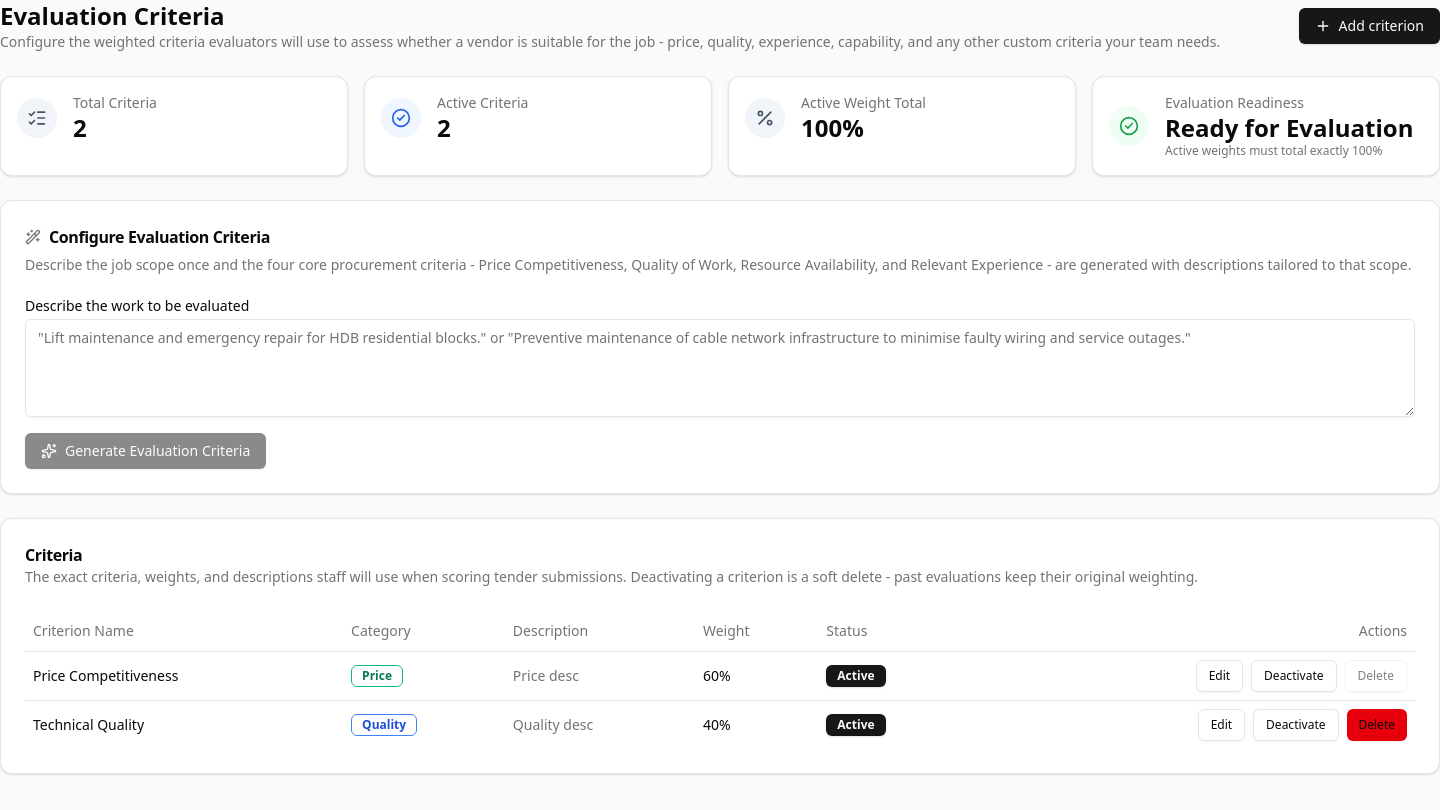
Scenario: EvaluationCriteriaPage (Jerrold - Scope B) › deactivates an active criterion after confirmation
Check: the text "Price Competitiveness" is shown, box [33,666,178,684]
Click the button "Deactivate" in the row of "Price desc".
click(1294, 676)  # box [1251,660,1336,692]
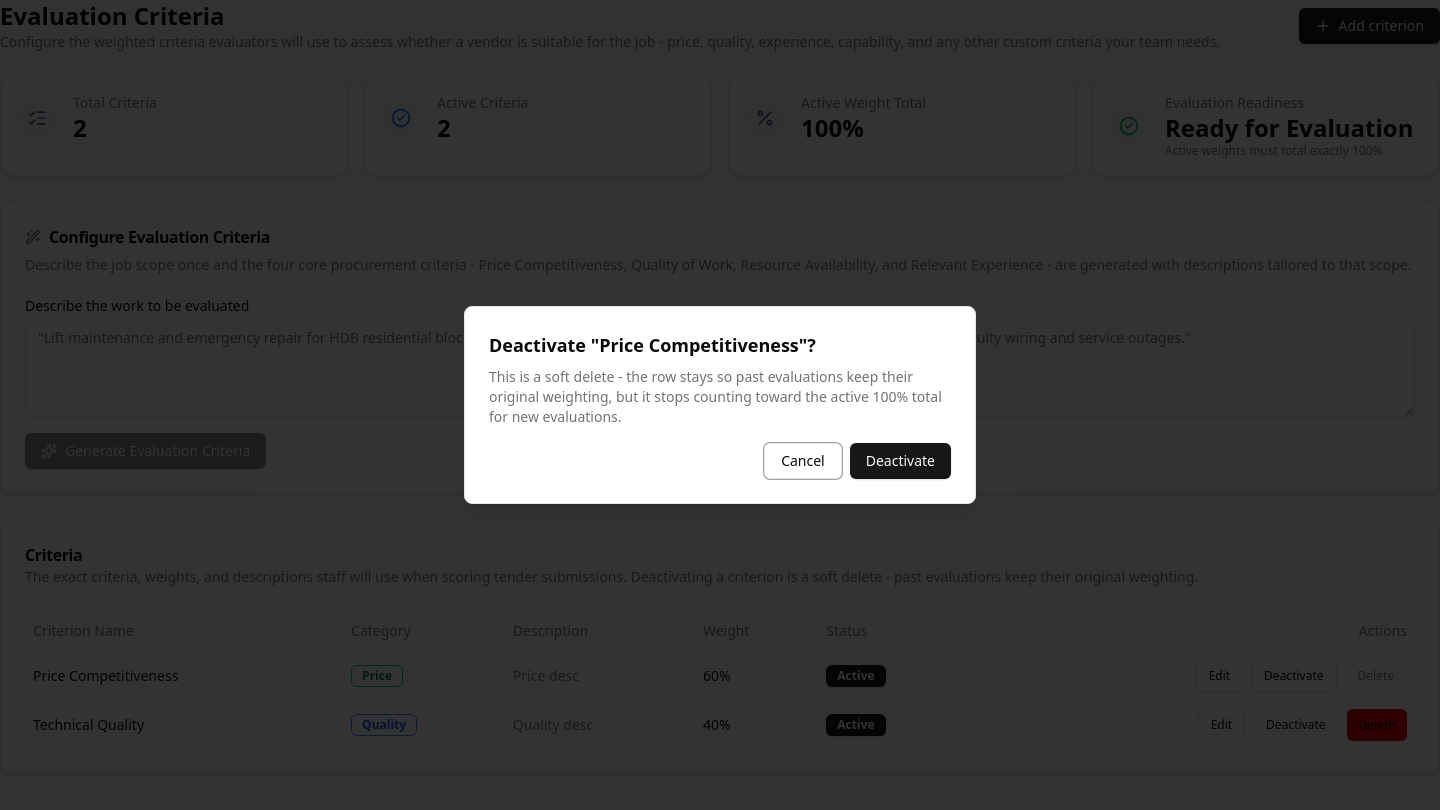
Check: the heading "Deactivate \"Price Competitiveness\"?" is shown, box [489,333,816,357]
Click the button "Deactivate".
click(900, 461)  # box [850,443,951,479]
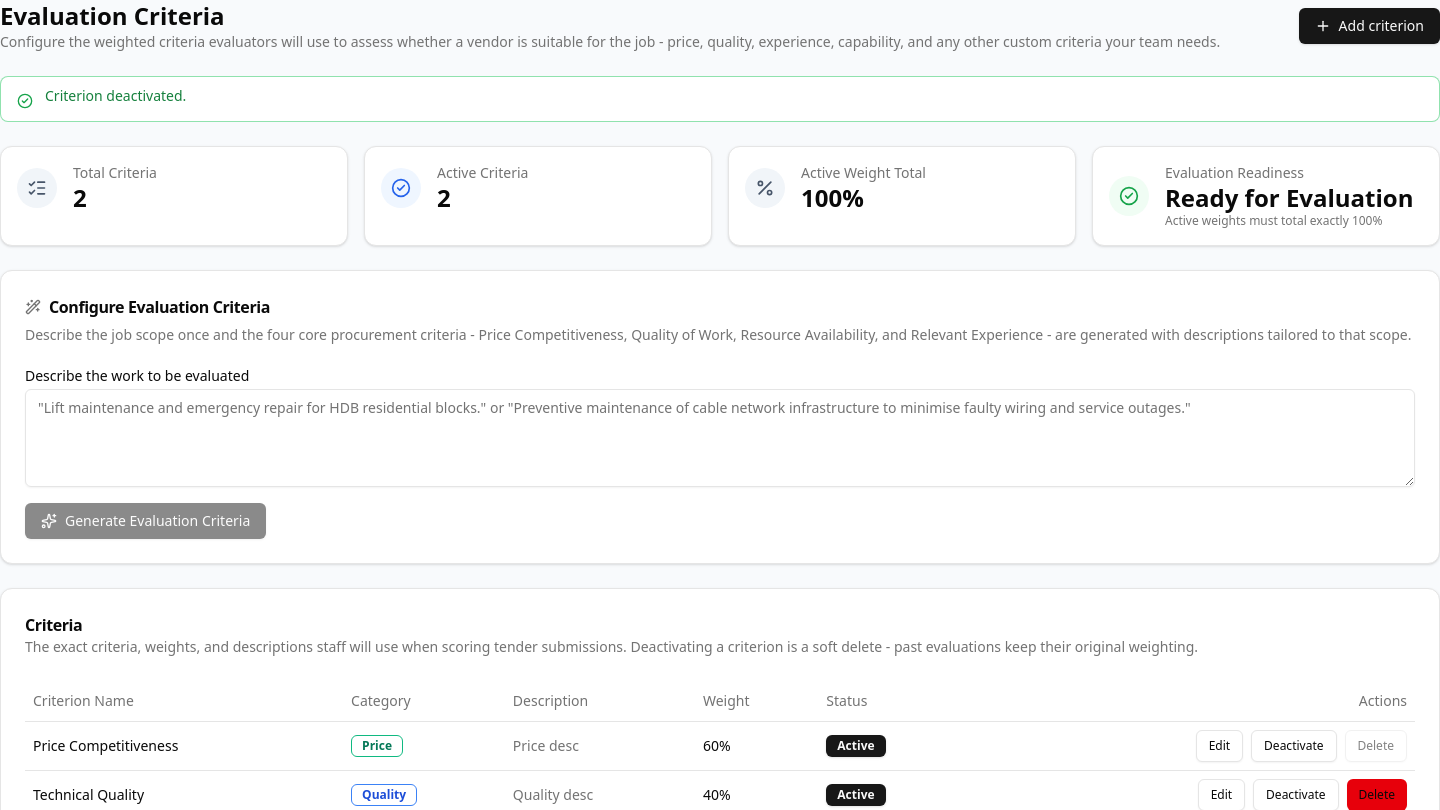
Check: the text "Criterion deactivated." is shown, box [45,86,186,105]
